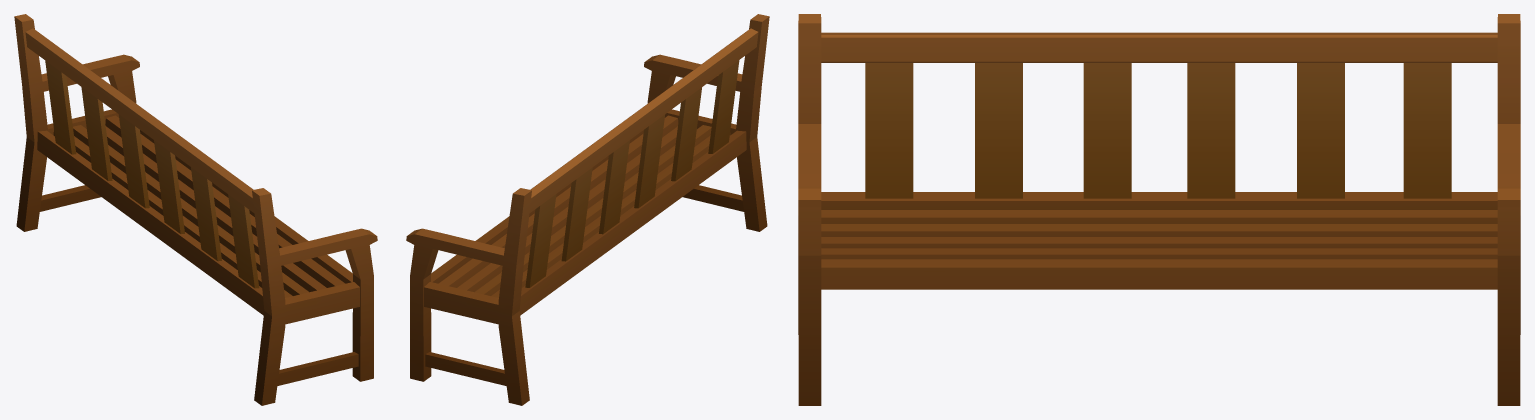
The model's file is Park_Bench.fbx.
The picture shows the model from 3 angles, left to right: view 1: azimuth 30°, elevation 25°; view 2: azimuth 150°, elevation 25°; view 3: azimuth 270°, elevation 25°; orthographic projection. The views are drawn at different scales.
Parts seen in each view (by area): view 1: Park_Bench; view 2: Park_Bench; view 3: Park_Bench.
Part boxes in pixels (x1,y1,x2,y2): Park_Bench: (14,14,377,405); Park_Bench: (406,14,769,405); Park_Bench: (798,14,1520,405).
Bounding box in the file's own units: 62.99 × 227 × 107.
1 material, 1 textured.
